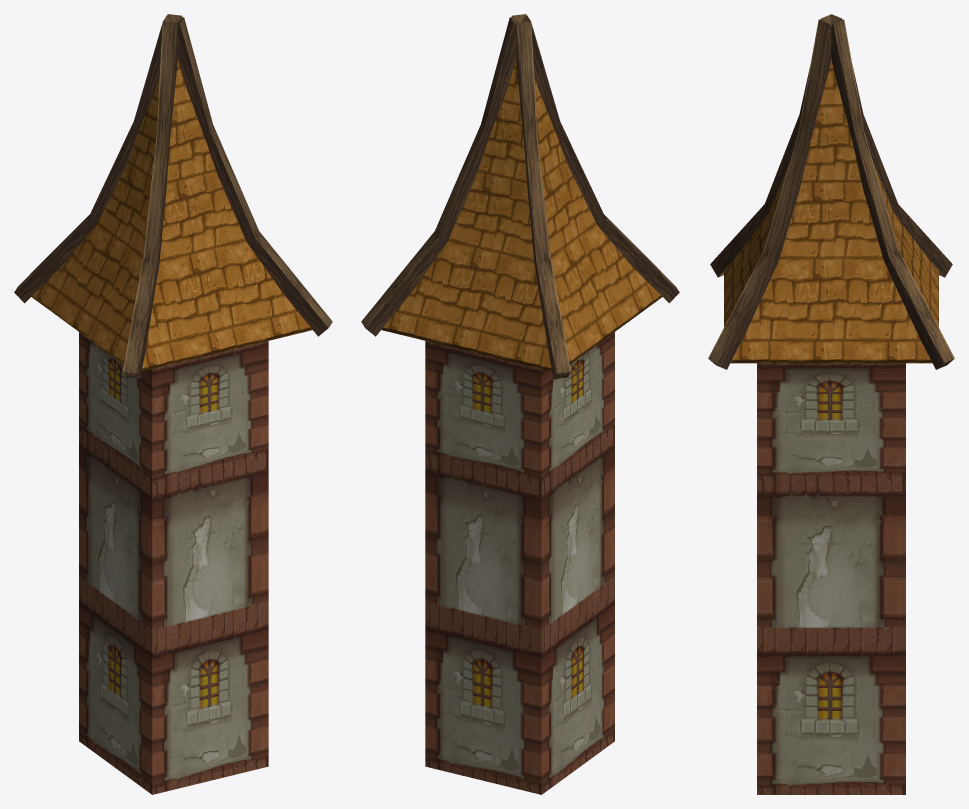
The model's file is Battle04_Building_02.FBX.
3 views of the same model, side by side, from view 1: azimuth 30°, elevation 25°; view 2: azimuth 150°, elevation 25°; view 3: azimuth 270°, elevation 25° (orthographic).
Parts seen in each view (by area): view 1: Battle04_Building_02_02, Battle04_Building_02_01, Battle04_Building_02_03; view 2: Battle04_Building_02_02, Battle04_Building_02_01, Battle04_Building_02_03; view 3: Battle04_Building_02_02, Battle04_Building_02_01, Battle04_Building_02_03.
Part boxes in pixels (x1,y1,x2,y2): Battle04_Building_02_02: (79, 332, 268, 794); Battle04_Building_02_01: (31, 60, 312, 371); Battle04_Building_02_03: (14, 14, 332, 378); Battle04_Building_02_02: (425, 332, 614, 794); Battle04_Building_02_01: (381, 60, 662, 371); Battle04_Building_02_03: (361, 14, 679, 378); Battle04_Building_02_02: (757, 363, 905, 794); Battle04_Building_02_01: (724, 24, 938, 363); Battle04_Building_02_03: (708, 14, 954, 369).
Size of the model in its own units: 11.46 by 38.53 by 11.55.
